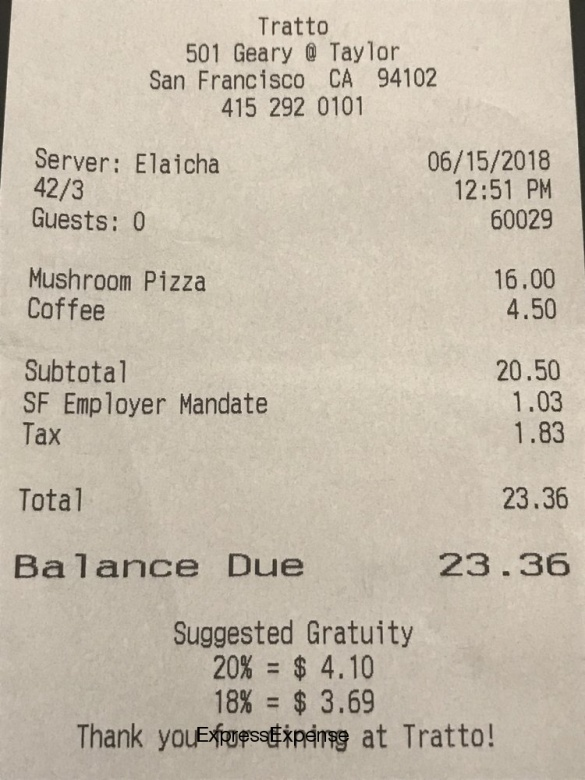Additional details: (65, 600, 511, 763)
Purchase summary: (10, 131, 585, 589)
Receipt: (5, 1, 580, 775)
Shop details: (123, 1, 451, 126)
